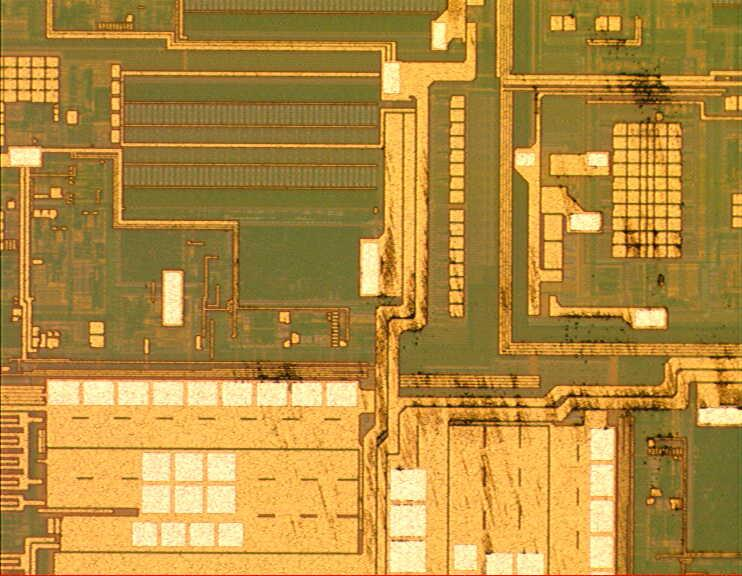SCRATCH: (225, 8, 742, 576)
